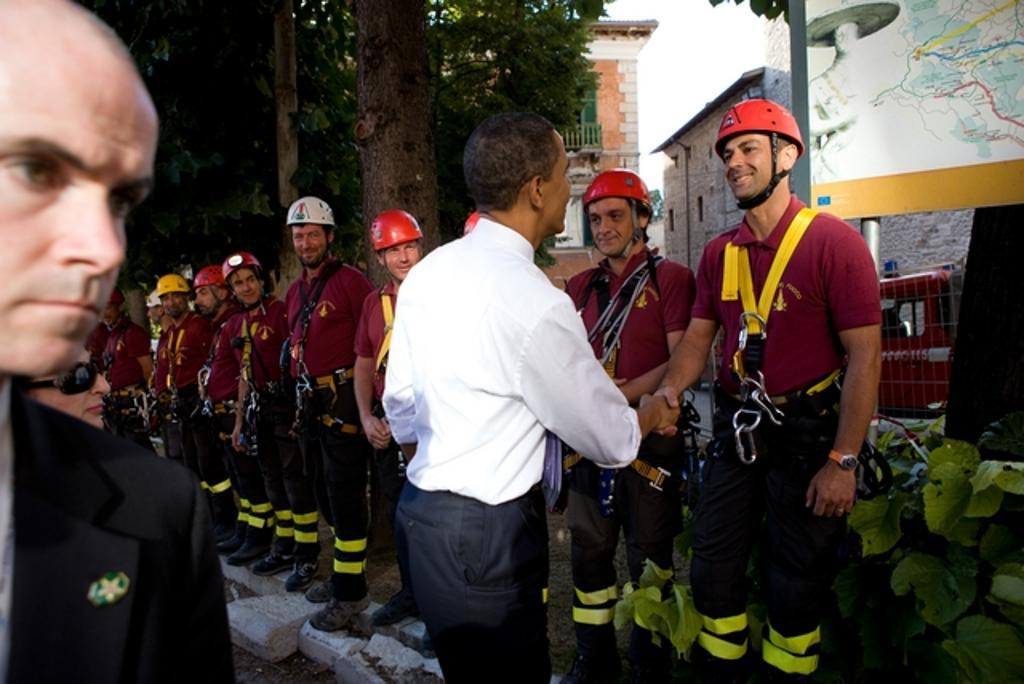face: (1, 75, 155, 375), (28, 344, 111, 442), (723, 130, 780, 198), (531, 153, 573, 232), (589, 198, 639, 254), (383, 233, 421, 281), (294, 222, 327, 266), (231, 268, 261, 304), (196, 280, 219, 316), (162, 287, 185, 314), (100, 297, 119, 323)
